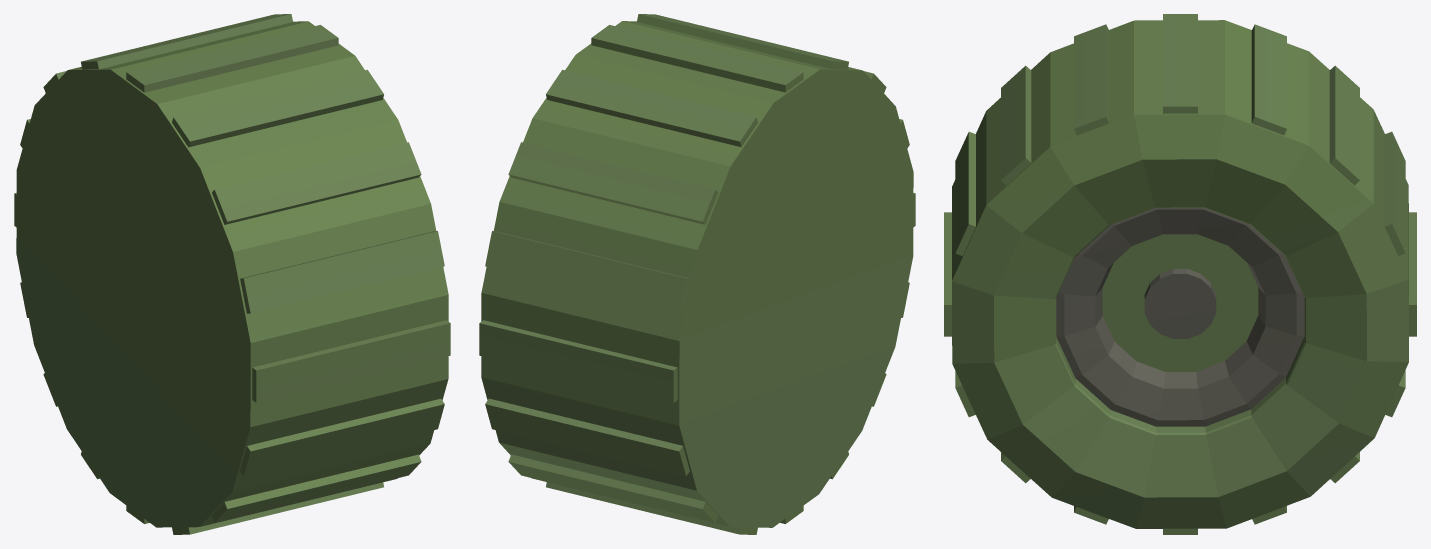
Rendered from Wheel_07.fbx.
The picture shows the model from 3 angles, left to right: view 1: azimuth 30°, elevation 25°; view 2: azimuth 150°, elevation 25°; view 3: azimuth 270°, elevation 25°; orthographic projection. The views are drawn at different scales.
Visible parts, largest first — view 1: Wheel_07; view 2: Wheel_07; view 3: Wheel_07.
Part boxes in pixels (x1,y1,x2,y2): Wheel_07: [14, 14, 450, 534]; Wheel_07: [479, 14, 915, 534]; Wheel_07: [944, 14, 1416, 534].
Size of the model in its own units: 0.2947 by 0.5825 by 0.5825.
